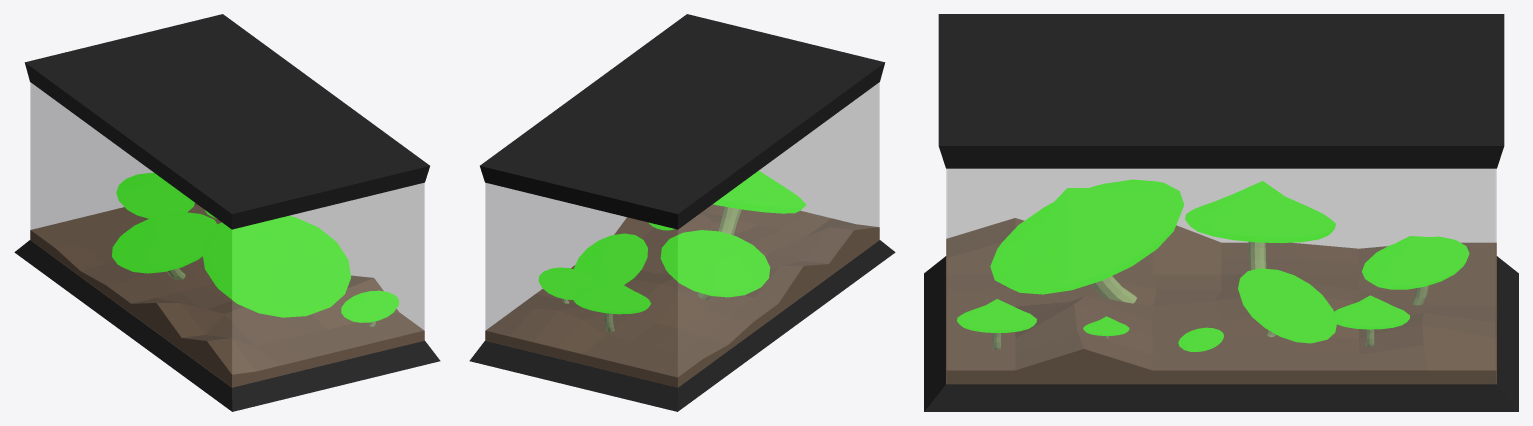
Rendered from Cogumelos.fbx.
3 views of the same model, side by side, from view 1: azimuth 30°, elevation 25°; view 2: azimuth 150°, elevation 25°; view 3: azimuth 270°, elevation 25° (orthographic). The views are drawn at different scales.
Parts seen in each view (by area): view 1: Cube, Cube.001, Cylinder; view 2: Cube, Cube.001, Cylinder; view 3: Cube, Cube.001, Cylinder.
Part boxes in pixels (left/top/right/bottom): Cube: left=14, top=14, right=440, bottom=411; Cube.001: left=30, top=82, right=424, bottom=387; Cylinder: left=112, top=173, right=398, bottom=326; Cube: left=469, top=14, right=895, bottom=411; Cube.001: left=485, top=82, right=879, bottom=386; Cylinder: left=538, top=170, right=806, bottom=331; Cube: left=924, top=14, right=1518, bottom=411; Cube.001: left=946, top=168, right=1496, bottom=383; Cylinder: left=957, top=179, right=1469, bottom=351.
Size of the model in its own units: 200 by 177 by 363.
